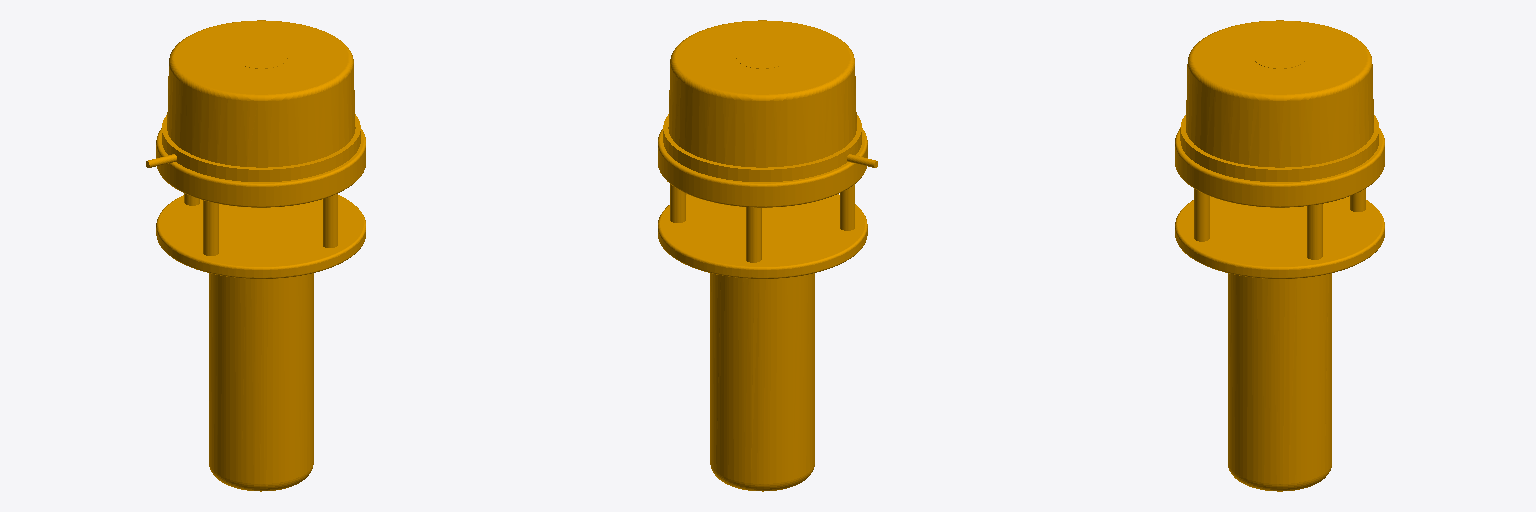
The robot description file, URDF, robot "hand_lidar_robot":
<?xml version="1.0" ?>
<!-- =================================================================================== -->
<!-- |    This document was autogenerated by xacro from hand_lidar.xacro               | -->
<!-- |    EDITING THIS FILE BY HAND IS NOT RECOMMENDED                                 | -->
<!-- =================================================================================== -->
<robot name="hand_lidar_robot">
  <!-- Base Link -->
  <link name="base_link">
    <visual>
      <geometry>
        <mesh filename="hand_lidar.dae" scale="1 1 1"/>
      </geometry>
    </visual>
  </link>
  <!-- IMU Link -->
  <link name="imu_frame"/>
  <!-- Lidar Link -->
  <link name="lidar_frame"/>
  <!-- IMU Joint (Fixed) -->
  <joint name="imu_joint" type="fixed">
    <parent link="base_link"/>
    <child link="imu_frame"/>
    <origin rpy="0 0 0" xyz="0 0 0"/>
  </joint>
  <!-- Lidar Joint (Fixed) -->
  <joint name="lidar_joint" type="fixed">
    <parent link="imu_frame"/>
    <child link="lidar_frame"/>
    <origin rpy="0 0 0.1744" xyz="0 0 0.0324"/>
  </joint>
</robot>

--- What the picture shows (computed from the rendered views, not written in the file) ---
The picture shows the robot from 3 angles, left to right: view 1: azimuth 30°, elevation 25°; view 2: azimuth 150°, elevation 25°; view 3: azimuth 270°, elevation 25°; orthographic projection.
Robot: hand_lidar_robot — 3 links, 2 joints (2 fixed); root link base_link; default pose: all joints at 0.
Links seen in each view (by area): view 1: base_link; view 2: base_link; view 3: base_link.
Link boxes in pixels (<box>): base_link: <box>146,20,365,491</box>; base_link: <box>658,20,877,491</box>; base_link: <box>1175,20,1384,491</box>.
Bounding box of the posed robot: 0.09 × 0.08 × 0.1748 m (x, y, z).
Meshes: 1 distinct files referenced, 1 mesh visuals loaded (1 Collada DAE).